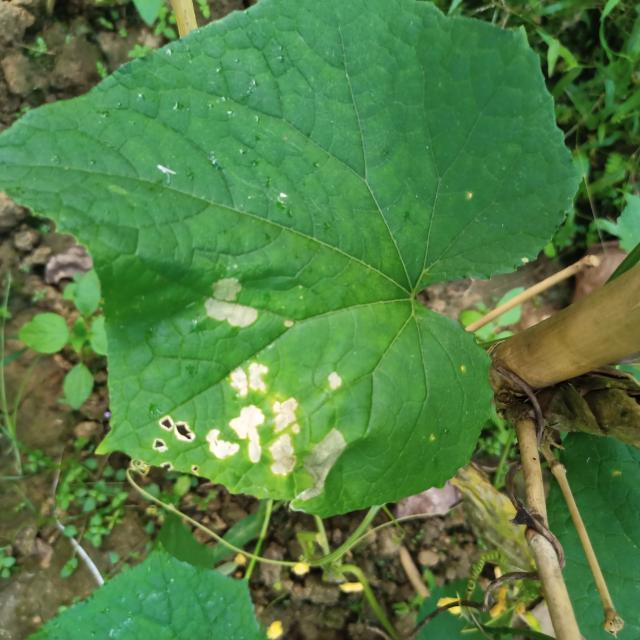disease_cucumber: (147, 356, 363, 504), (200, 273, 265, 335)
